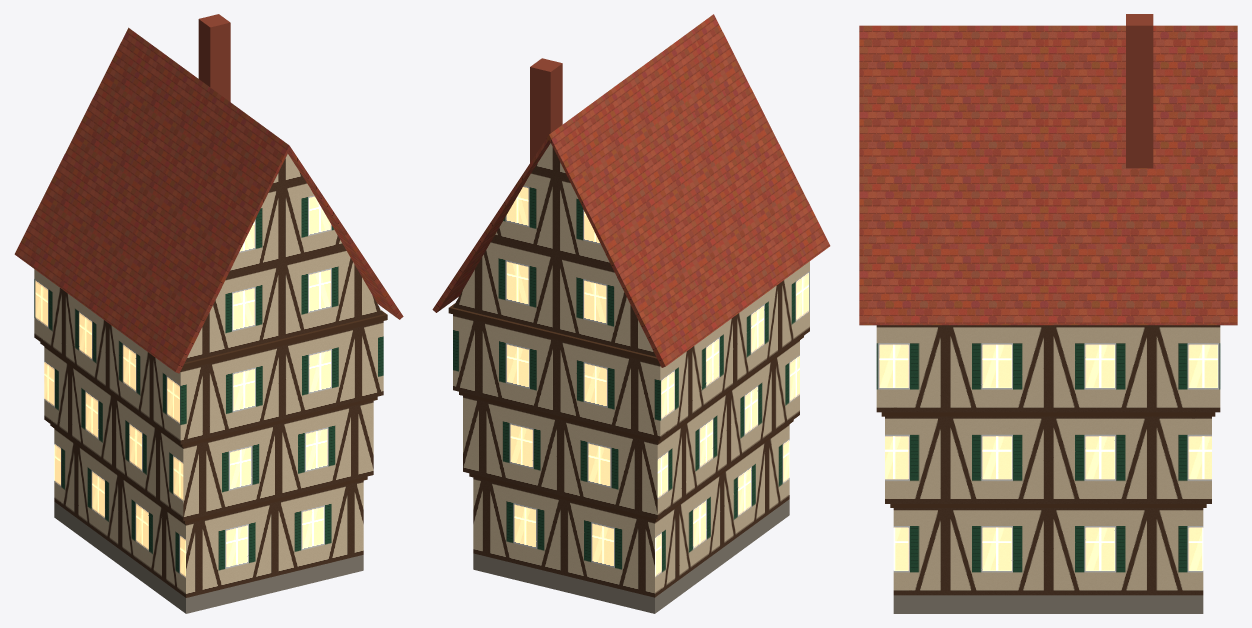
File: eu_half_b.glb
3 renders of one model, left to right at view 1: azimuth 30°, elevation 25°; view 2: azimuth 150°, elevation 25°; view 3: azimuth 270°, elevation 25°, orthographic. The views are drawn at different scales.
Parts seen in each view (by area): view 1: roof; view 2: roof; view 3: roof.
Boxes of the visible parts, x1,y1,x2,y2 form: roof: [14, 14, 403, 613]; roof: [432, 14, 830, 613]; roof: [859, 14, 1237, 613].
Bounding box in the file's own units: 9 × 18.25 × 11.
Materials: 5 (2 with a texture image).
